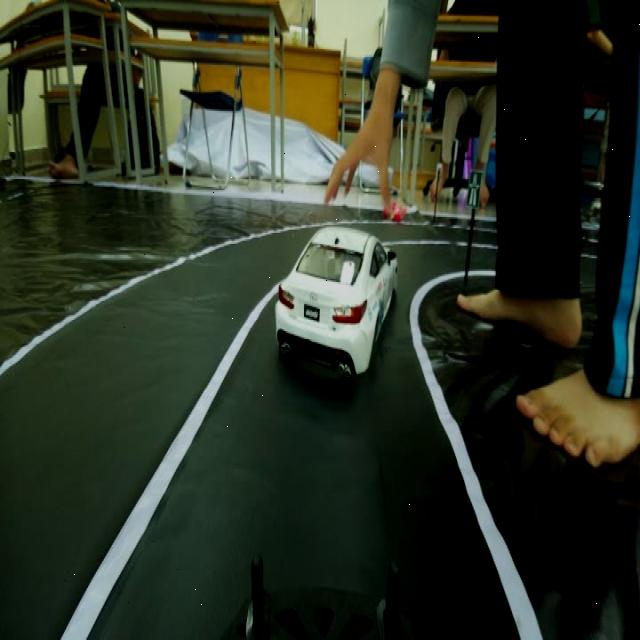car: (276, 217, 382, 418)
highway_entry: (460, 160, 486, 209)
